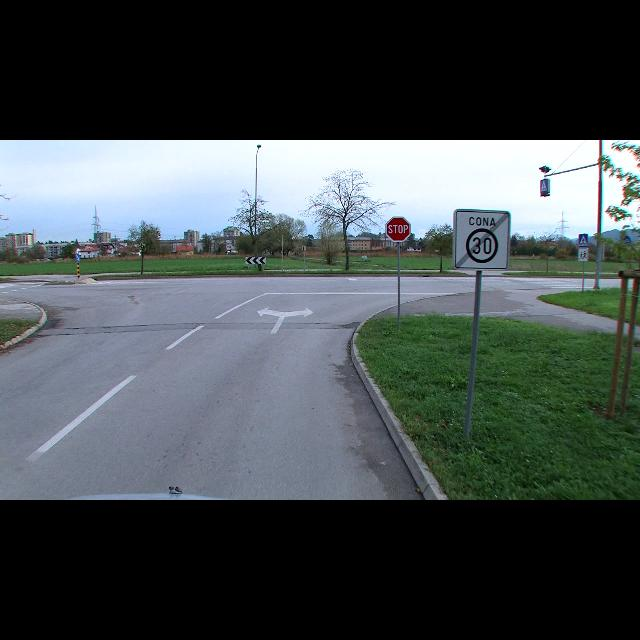Rectangle: (452, 208, 511, 272)
Round: (76, 253, 82, 263)
Stop: (386, 216, 412, 242)
